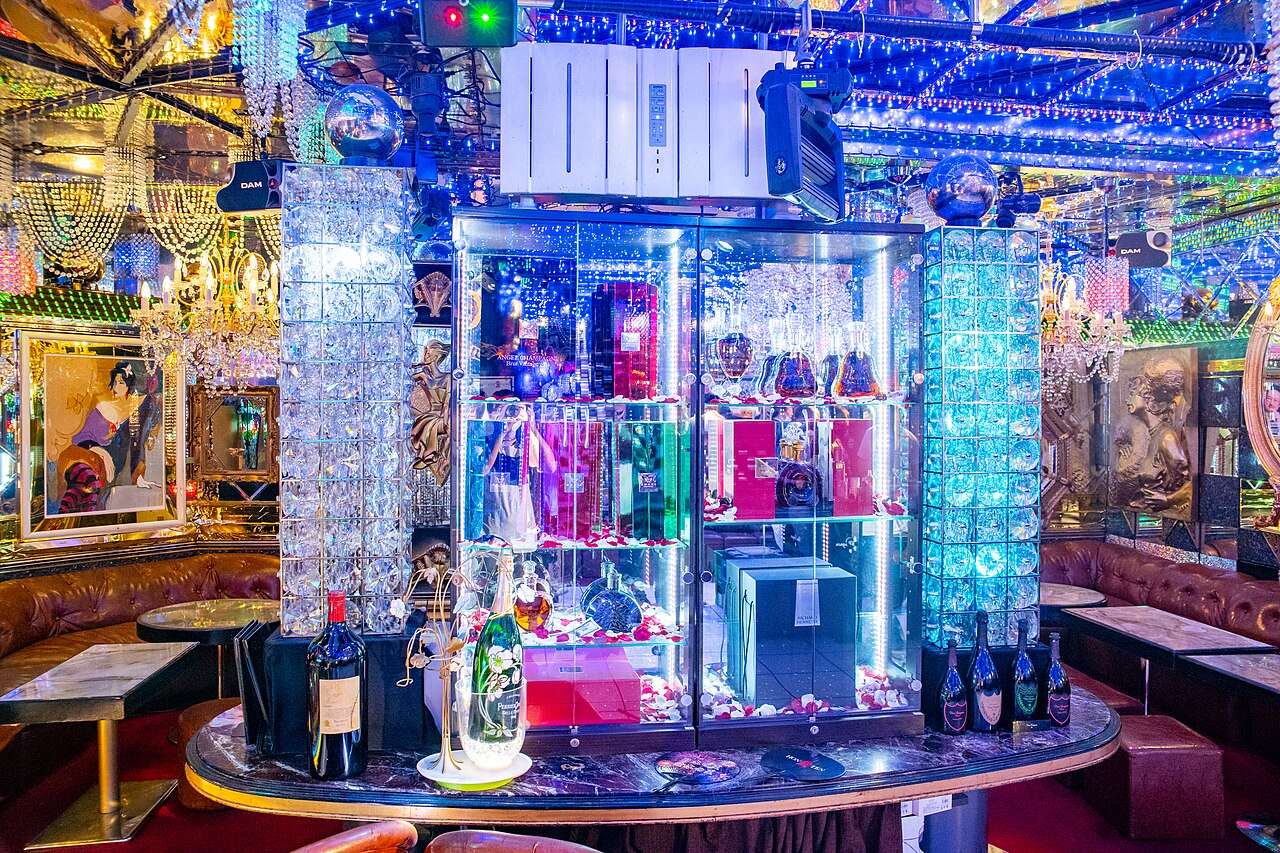unknown_bottle: (460, 557, 527, 770), (307, 591, 368, 779), (970, 610, 1005, 733), (1011, 617, 1048, 720), (939, 636, 970, 734), (1045, 631, 1071, 727)
